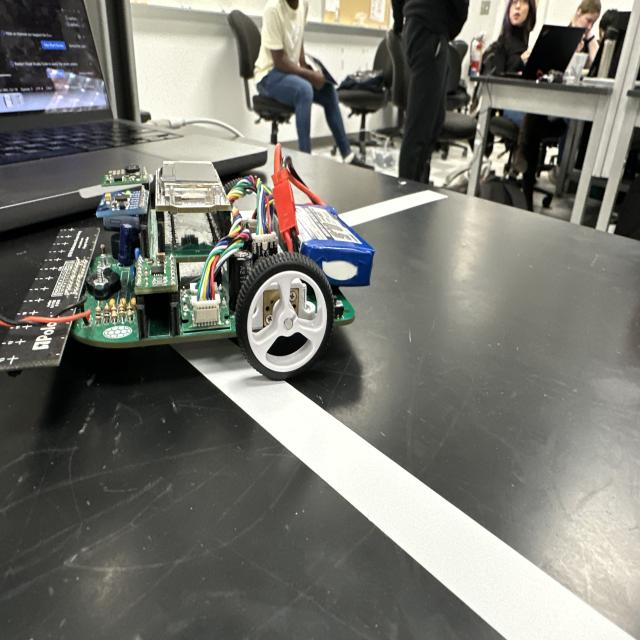robot: (1, 157, 382, 402)
